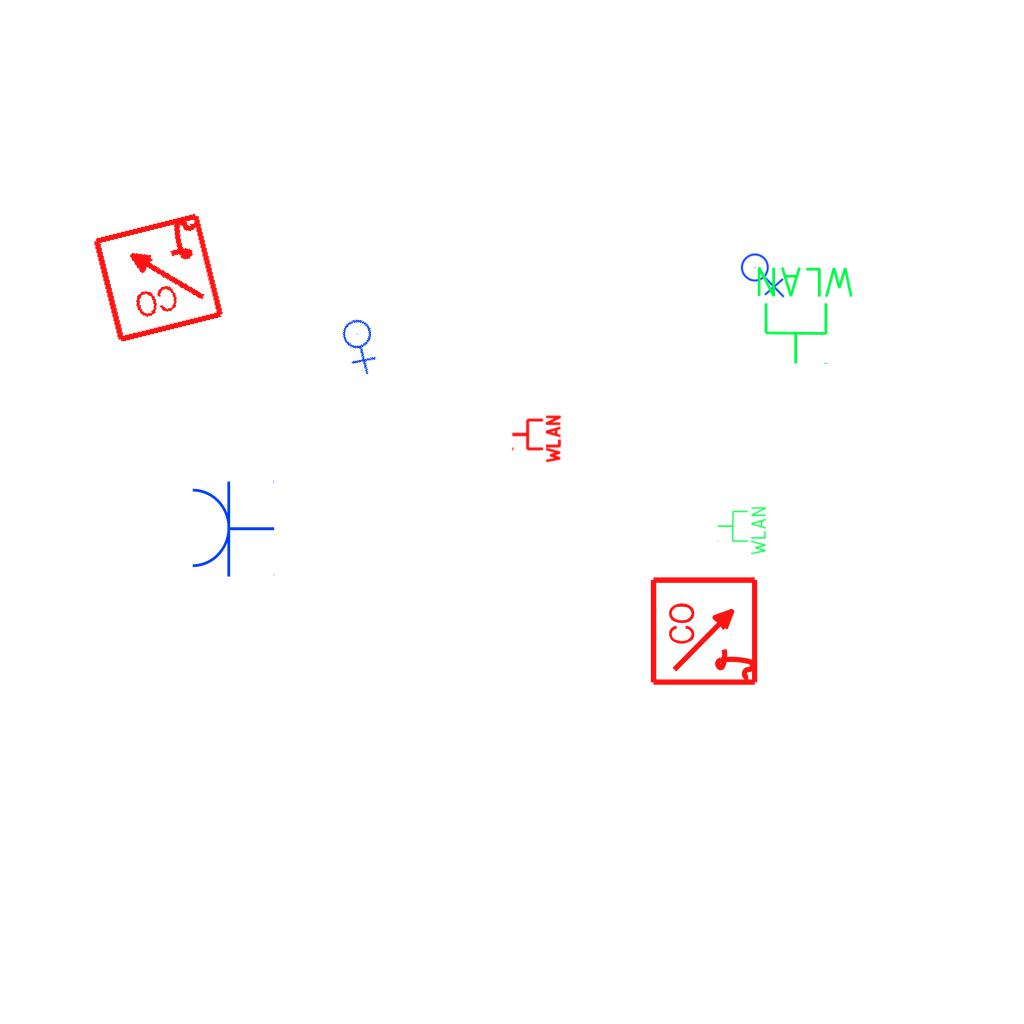Elektroanschluss_allgemein_230V_Geraeteanschlussdose_230V: (328, 310, 395, 377), (740, 249, 787, 298)
ROA_Rauchmelder_optisch_mit_Signalgeber_(Sockelsirene): (89, 208, 226, 345), (649, 574, 762, 687)
Schukosteckdose_einfach: (188, 478, 275, 578)
WLAN: (753, 263, 858, 367), (716, 505, 768, 557), (510, 413, 562, 465)
